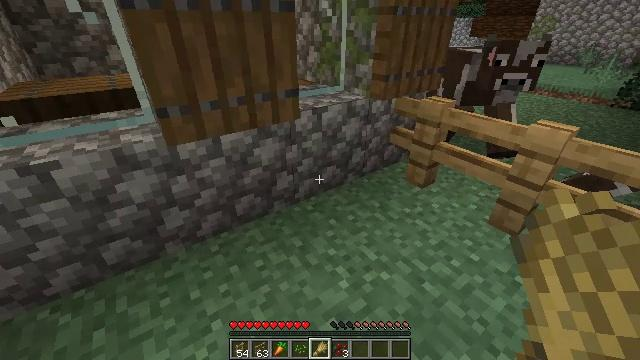cow: (439, 38, 555, 158)
